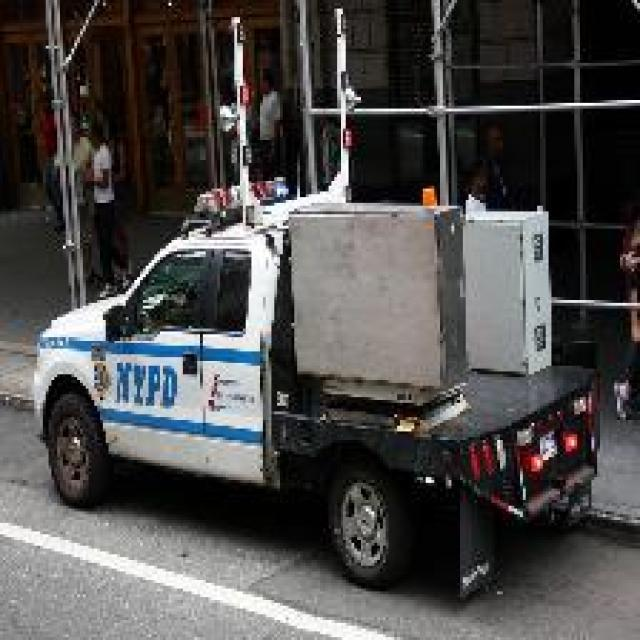emergency: (35, 190, 599, 594)
